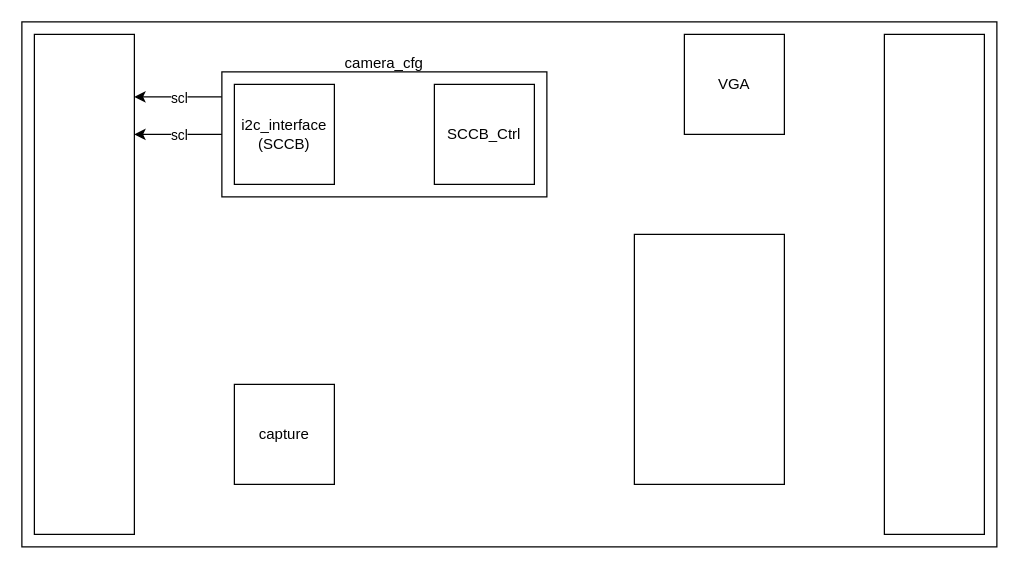
Some shapes in this 1019 by 569 pixel diagram are drawn without their labels. The shapes that lost their labels are listed below. From the top down, each one's box as (x1, y1, x2, y2) in pixels, then its label:
(33, 33, 134, 534): OV5640
(883, 33, 984, 534): SDRAM
(633, 233, 784, 484): SDRAM_interface
